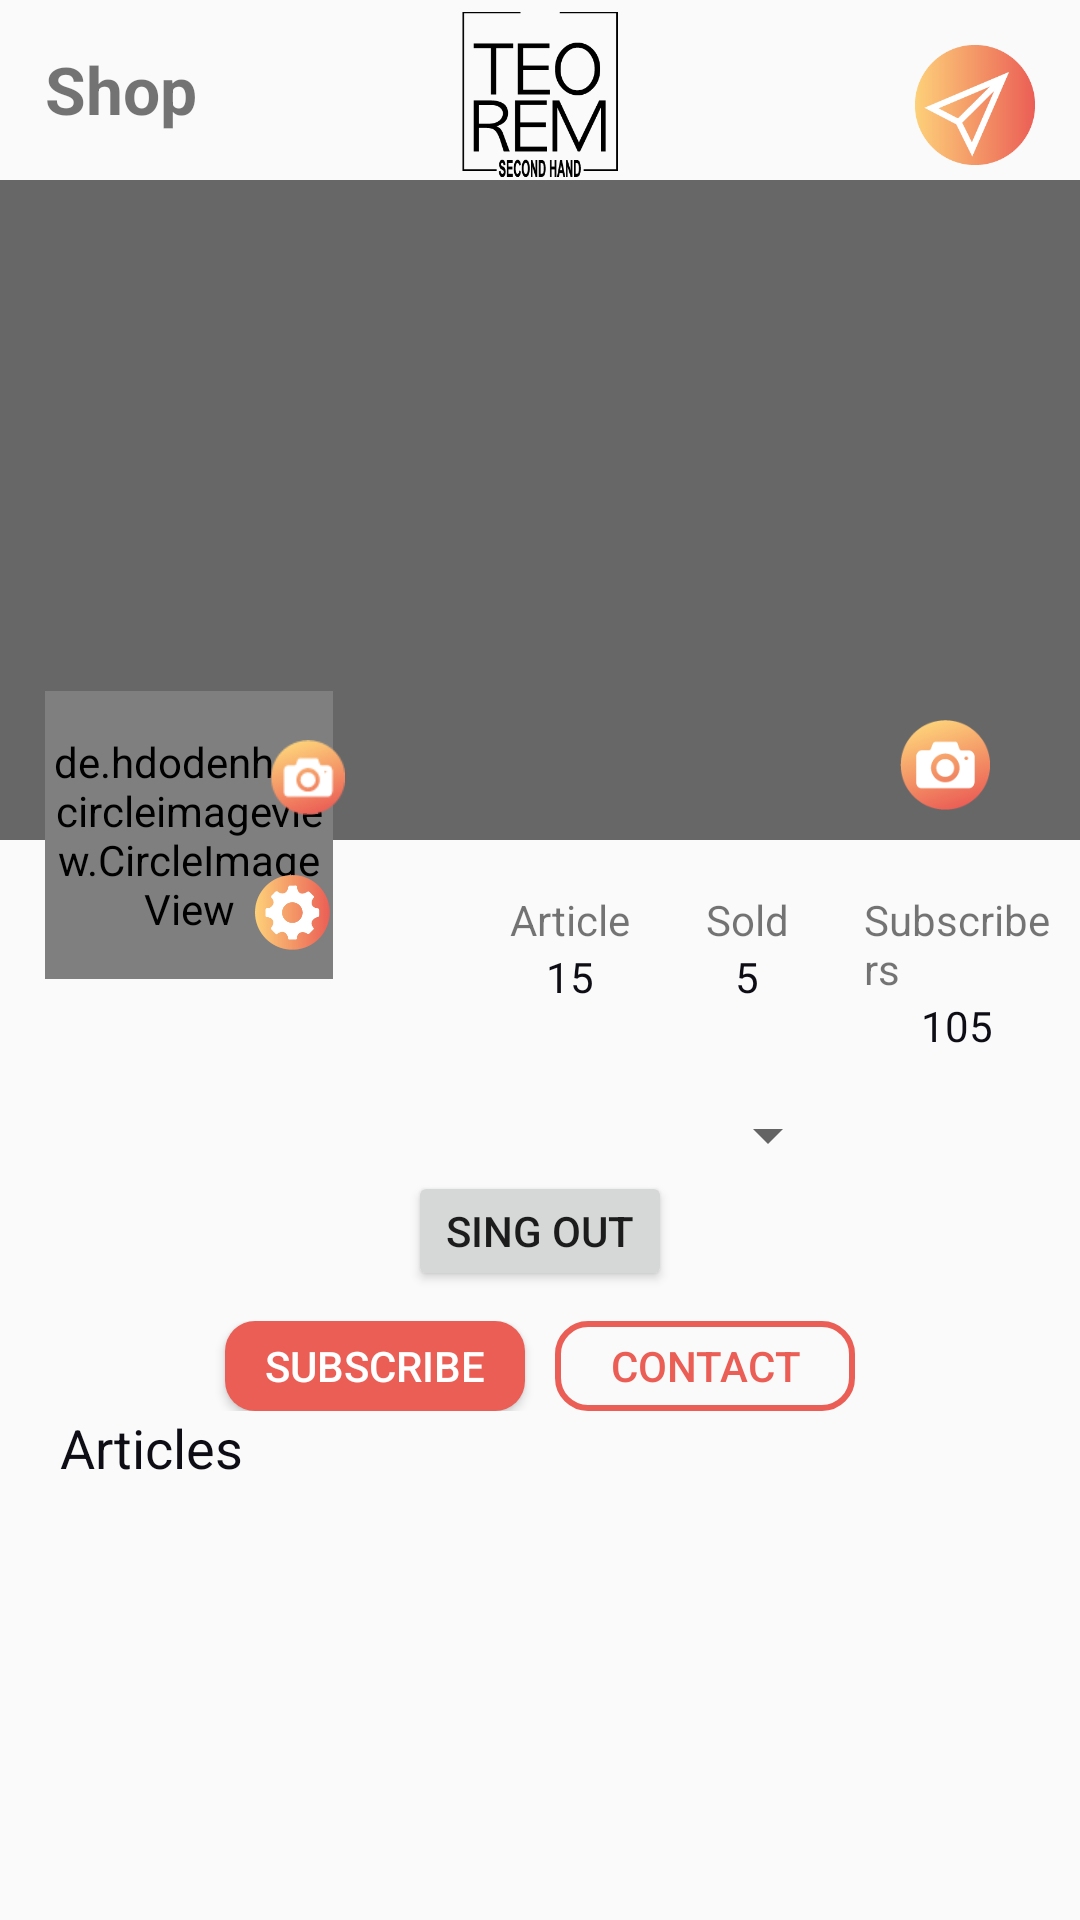

Screen size 1080 x 1920. Icon name, then its box in pixels as BBox(x1, y1, x2, y2):
camera: BBox(900, 720, 990, 810), BBox(270, 740, 345, 815)
message: BBox(915, 45, 1035, 165)
settings: BBox(255, 875, 330, 950)
